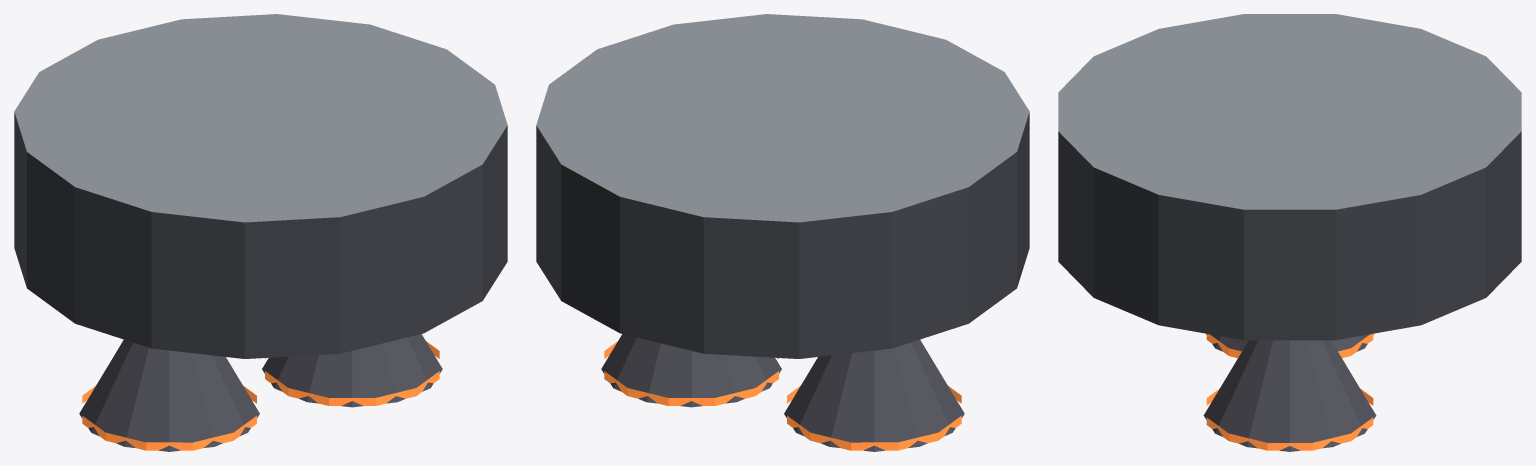
Rendered from ship_engine.glb.
3 renders of one model, left to right at view 1: azimuth 30°, elevation 25°; view 2: azimuth 150°, elevation 25°; view 3: azimuth 270°, elevation 25°, orthographic. The views are drawn at different scales.
Visible parts, largest first — view 1: ship_engine; view 2: ship_engine; view 3: ship_engine.
Boxes of the visible parts, <box> form: ship_engine: <box>14,14,507,451</box>; ship_engine: <box>536,14,1029,451</box>; ship_engine: <box>1058,14,1521,451</box>.
Bounding box in the file's own units: 1.61 × 1 × 1.61.
